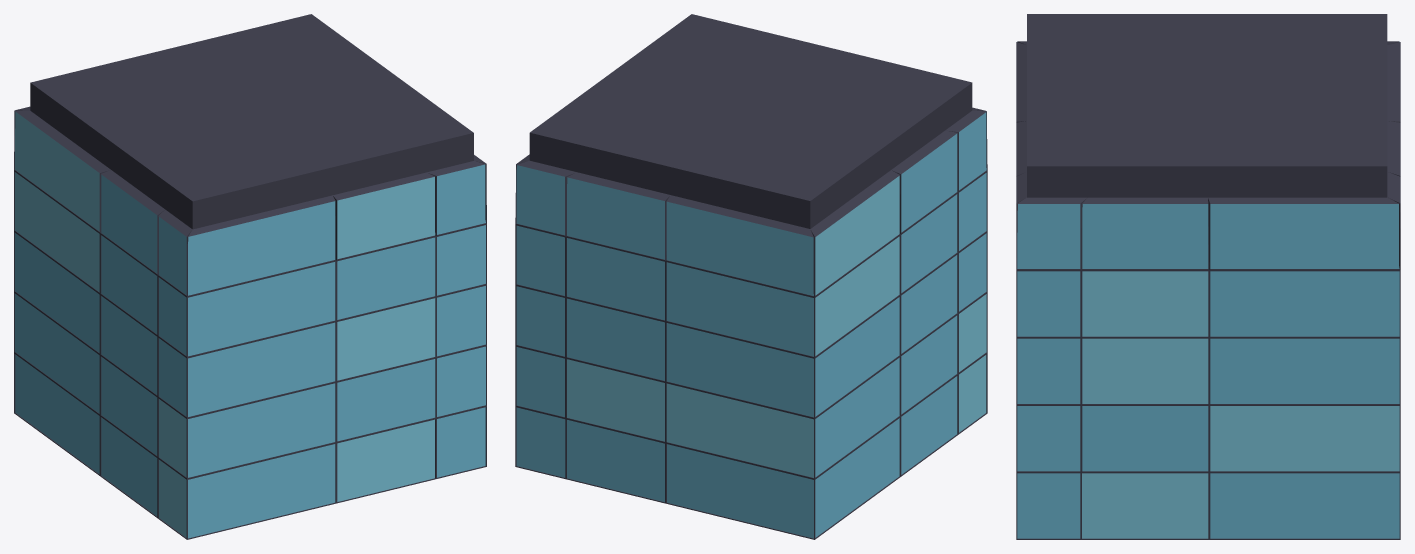
File: building_1x1_9_f.glb
The picture shows the model from 3 angles, left to right: view 1: azimuth 30°, elevation 25°; view 2: azimuth 150°, elevation 25°; view 3: azimuth 270°, elevation 25°; orthographic projection. The views are drawn at different scales.
Visible parts, largest first — view 1: SecondFloor; view 2: SecondFloor; view 3: SecondFloor.
Boxes of the visible parts, bbox=[...] form: SecondFloor: bbox=[14, 14, 486, 539]; SecondFloor: bbox=[515, 14, 987, 539]; SecondFloor: bbox=[1016, 14, 1400, 539].
Size of the model in its own units: 1.52 by 1.61 by 1.52.
